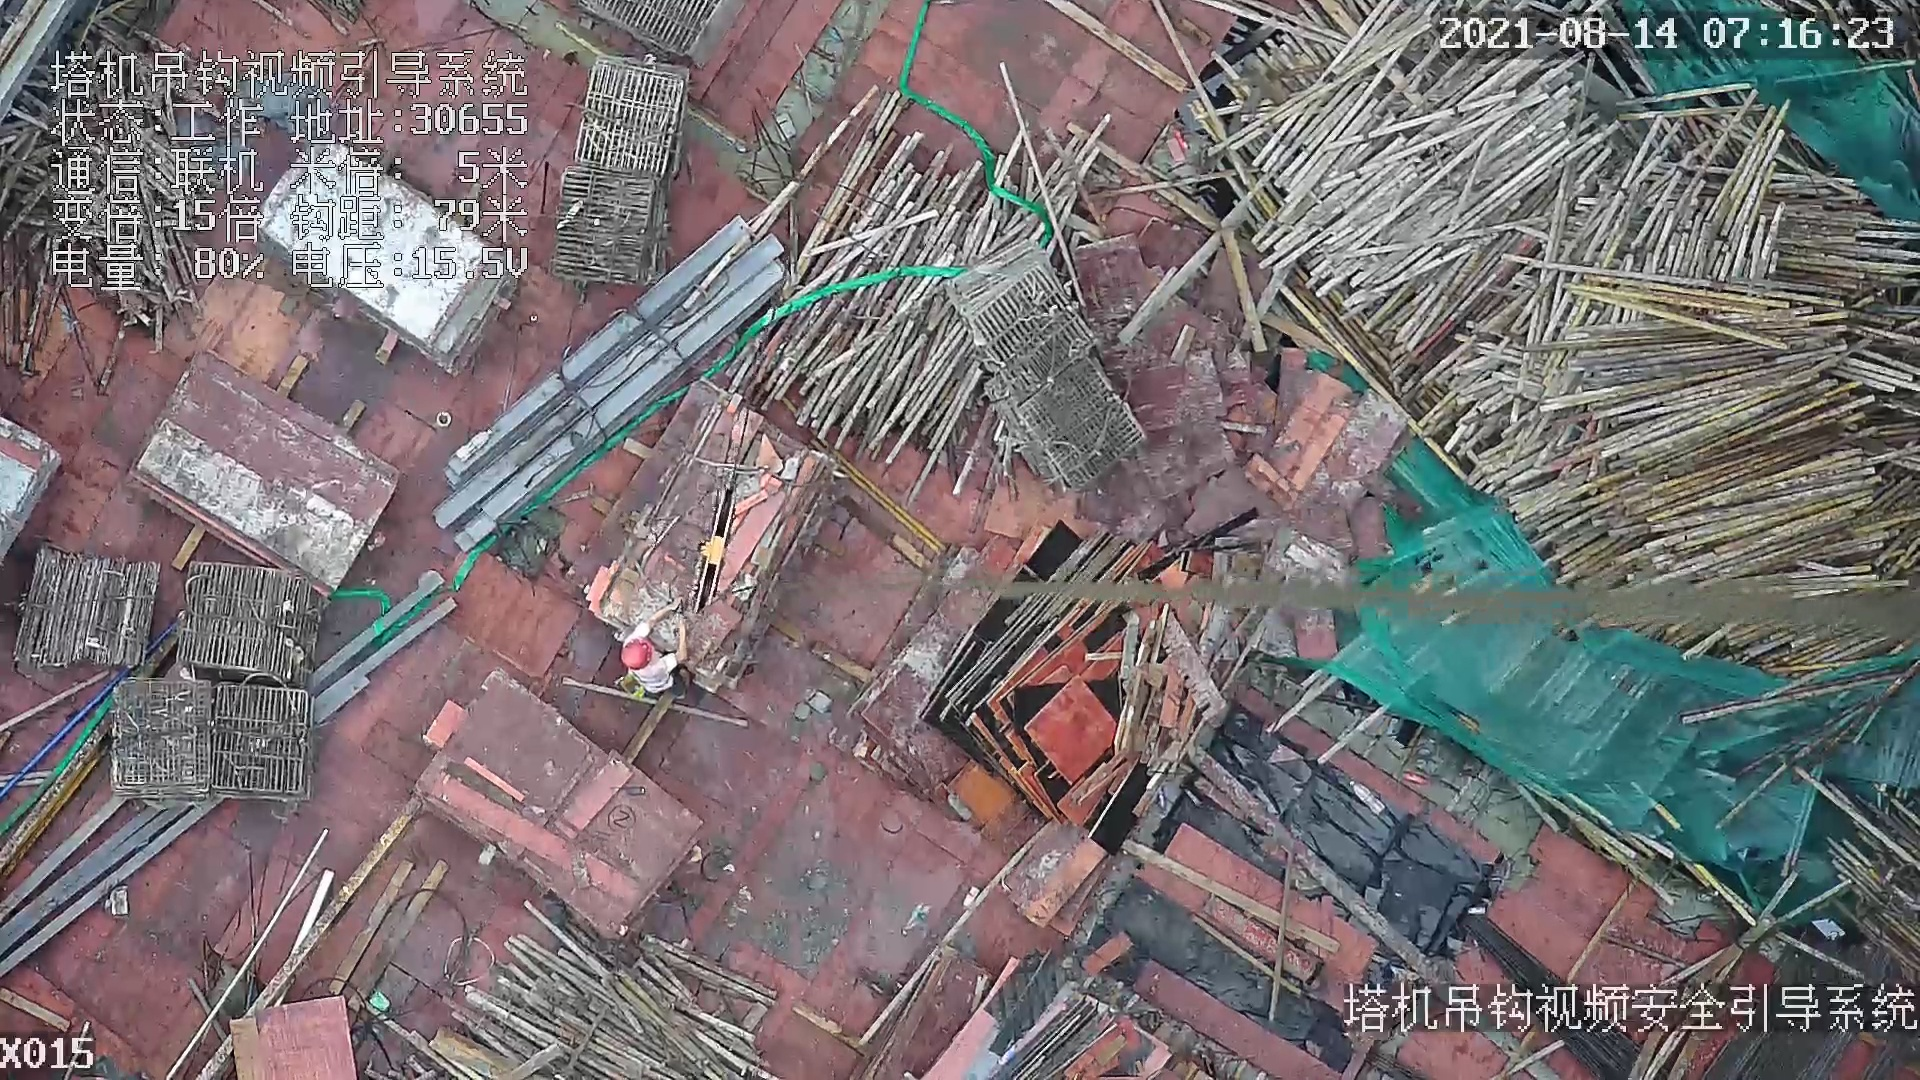helmet: (619, 637, 651, 672)
hook: (686, 481, 735, 610)
person: (624, 597, 685, 700)
